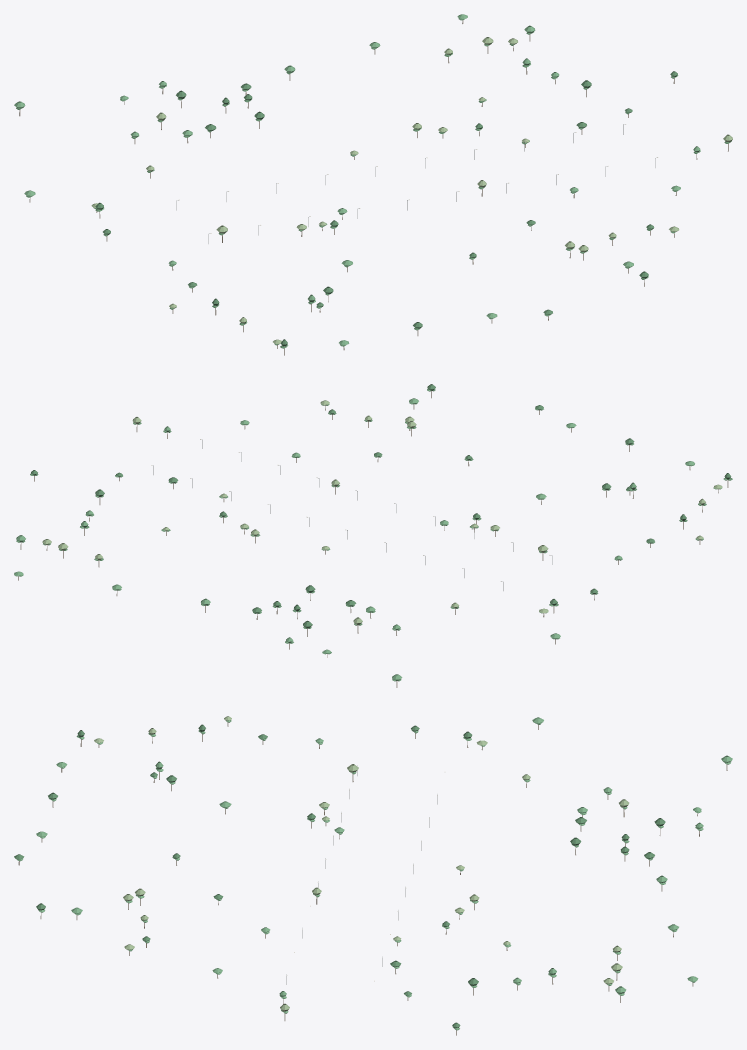
3 renders of one model, top to bottom at view 1: azimuth 30°, elevation 25°; view 2: azimuth 150°, elevation 25°; view 3: azimuth 270°, elevation 25°, orthographic. The views are drawn at different scales.
Parts seen in each view (by area): view 1: Uttara Center neighborhood furniture (approximate); view 2: Uttara Center neighborhood furniture (approximate); view 3: Uttara Center neighborhood furniture (approximate).
Boxes of the visible parts, x1,y1,x2,y2 form: Uttara Center neighborhood furniture (approximate): [14, 14, 732, 355]; Uttara Center neighborhood furniture (approximate): [14, 384, 732, 687]; Uttara Center neighborhood furniture (approximate): [14, 716, 732, 1035].
Bounding box in the file's own units: 468 × 12.31 × 454.
